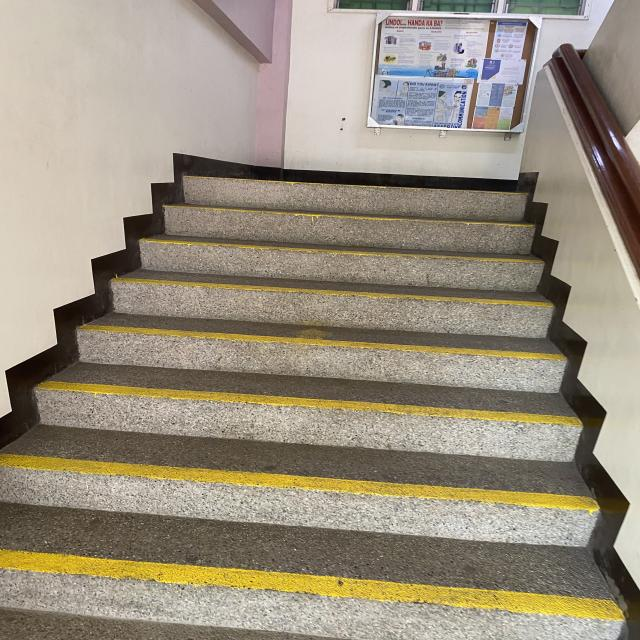stair: (0, 177, 623, 639)
